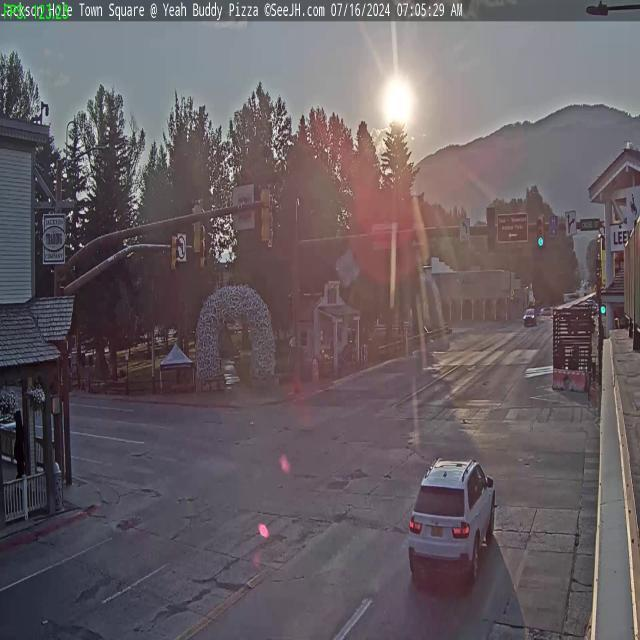suv: (404, 457, 500, 598)
traffic light: (260, 184, 274, 246), (190, 200, 204, 256), (170, 230, 182, 278), (486, 208, 496, 252), (536, 214, 546, 248)
